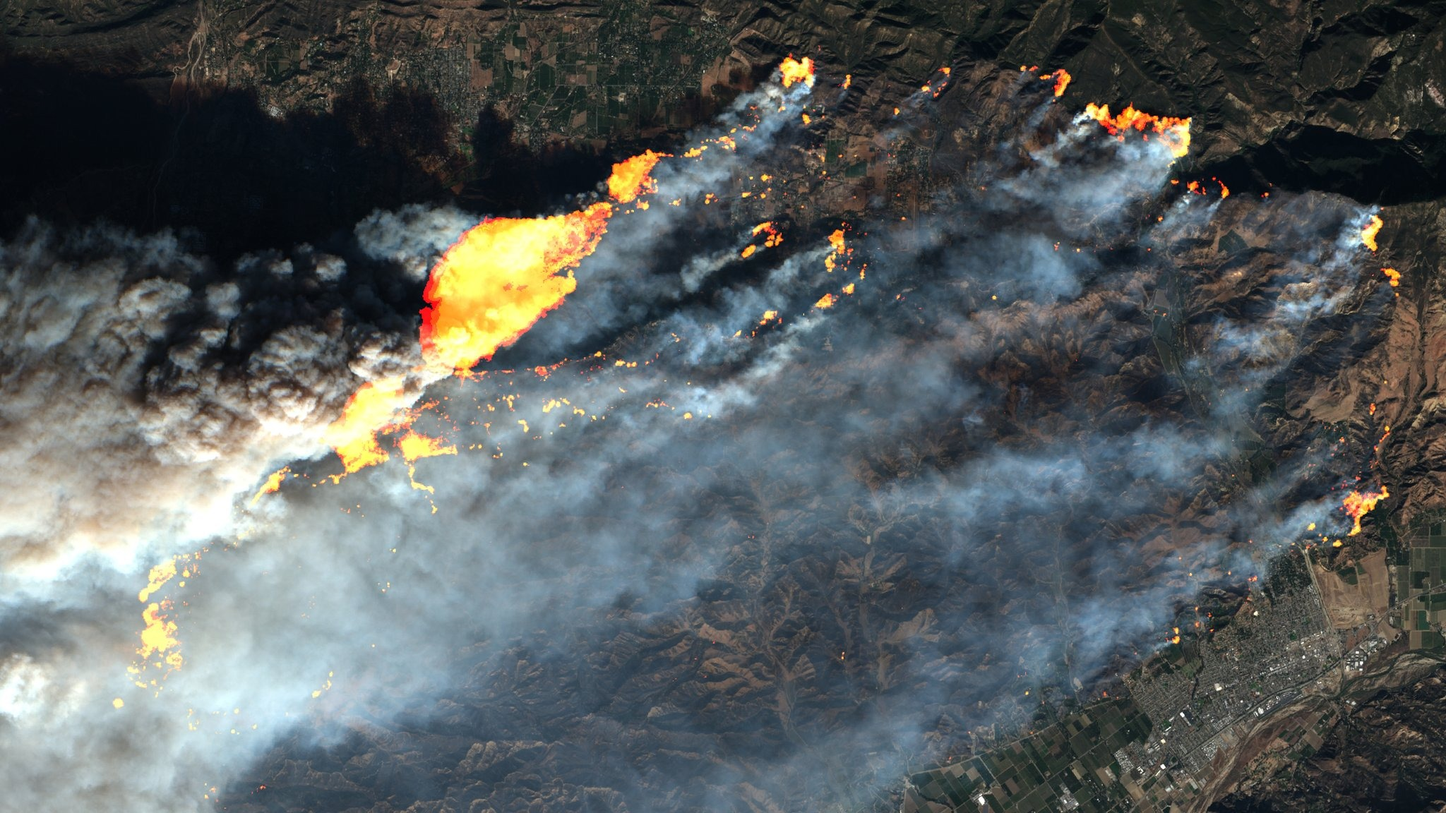forest_fire: (323, 119, 763, 494), (137, 554, 193, 670), (1080, 103, 1191, 157), (765, 56, 815, 113), (1342, 486, 1390, 536), (1020, 66, 1071, 97), (823, 224, 853, 272), (734, 308, 782, 337), (542, 398, 601, 421), (811, 282, 857, 310), (1359, 215, 1384, 253), (1382, 267, 1401, 288)
